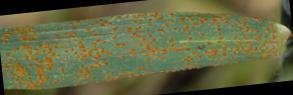Corn: (6, 20, 126, 84), (126, 18, 244, 68)
